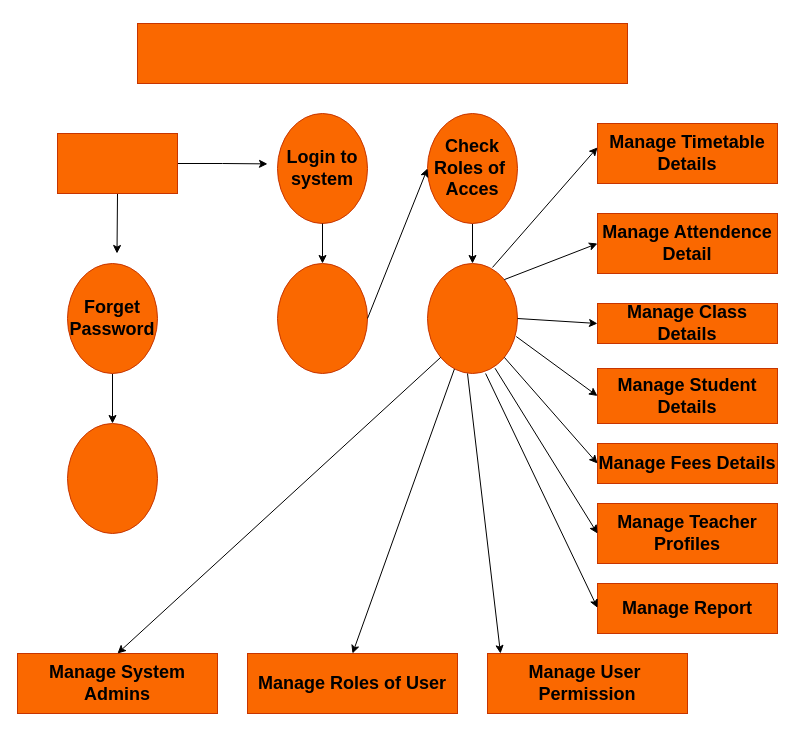
Some shapes in this 795 by 737 pixel diagram are drawn without their labels. The shapes that lost their labels are listed below. From the top down, each one's centre as x and y in pixels, then its label:
At point 382,53: "Student Information System".
At point 117,163: "admin".
At point 322,318: "Check credentals".
At point 472,318: "Manage Modules".
At point 112,478: "Send Email to User".
